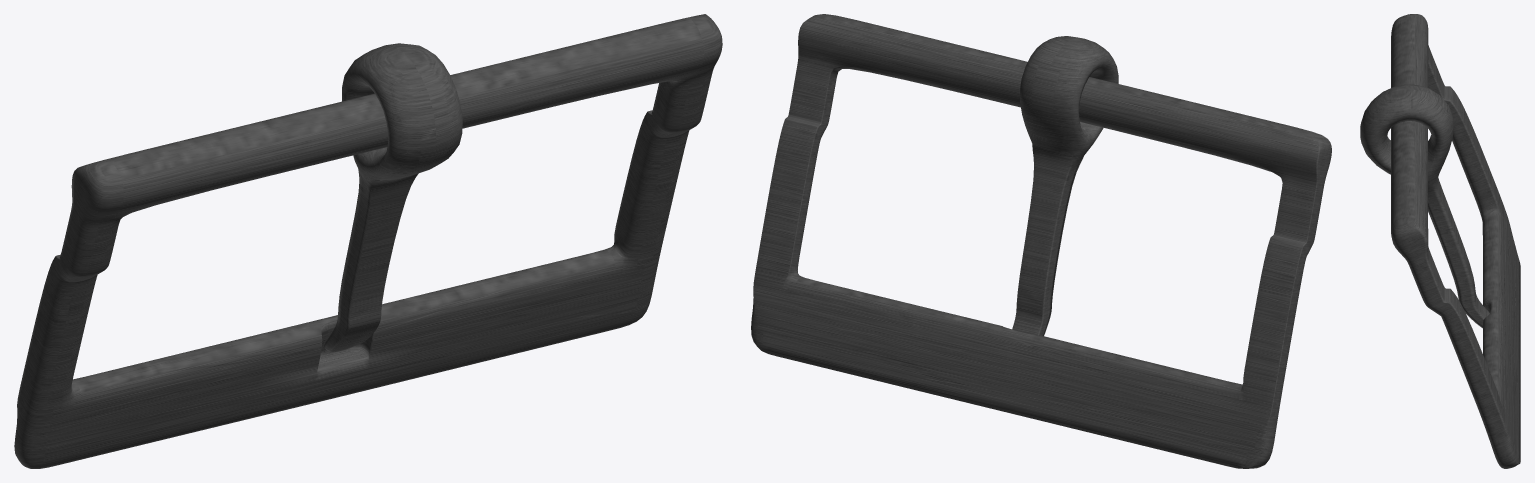
Rendered from DefaultDecoration.gltf.
The picture shows the model from 3 angles, left to right: view 1: azimuth 30°, elevation 25°; view 2: azimuth 150°, elevation 25°; view 3: azimuth 270°, elevation 25°; orthographic projection. The views are drawn at different scales.
Parts seen in each view (by area): view 1: Buckle; view 2: Buckle; view 3: Buckle.
Boxes of the visible parts, x1,y1,x2,y2 form: Buckle: (14, 14, 722, 468); Buckle: (751, 14, 1331, 468); Buckle: (1360, 14, 1520, 468).
Size of the model in its own units: 1.54 by 0.9259 by 0.4842.
Materials: 1 (1 with a texture image).
